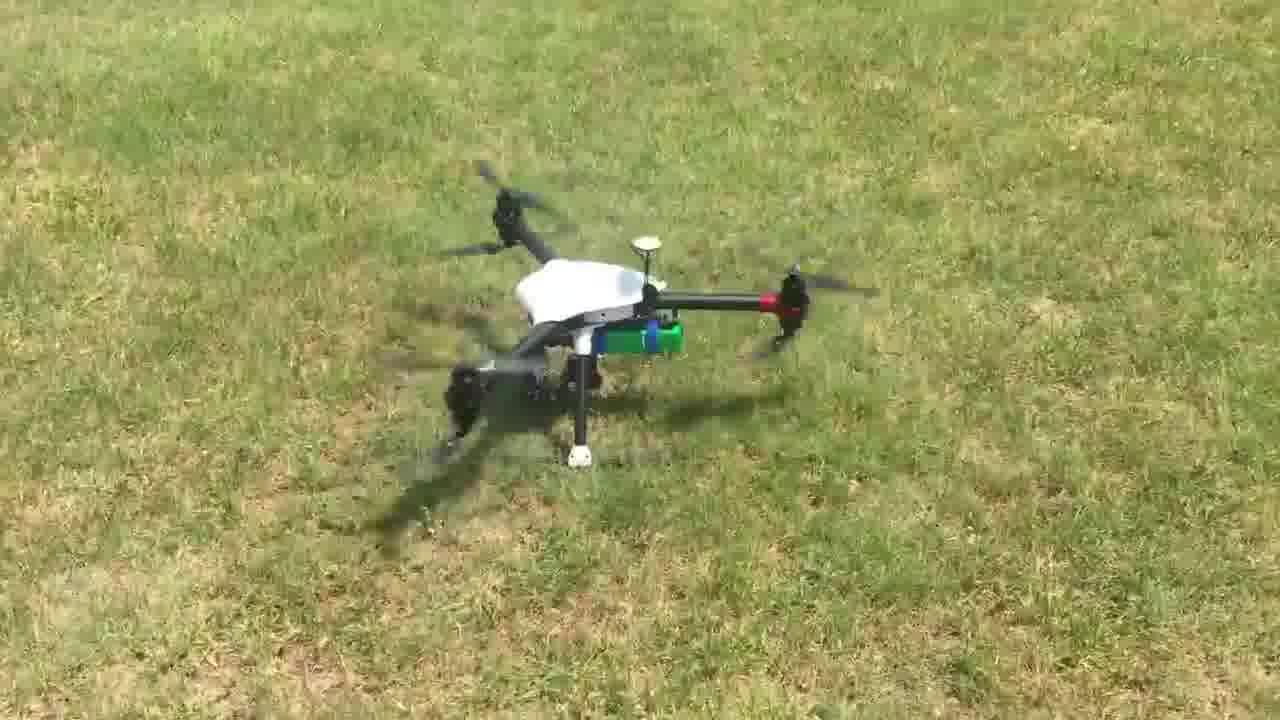drone: (435, 179, 821, 470)
